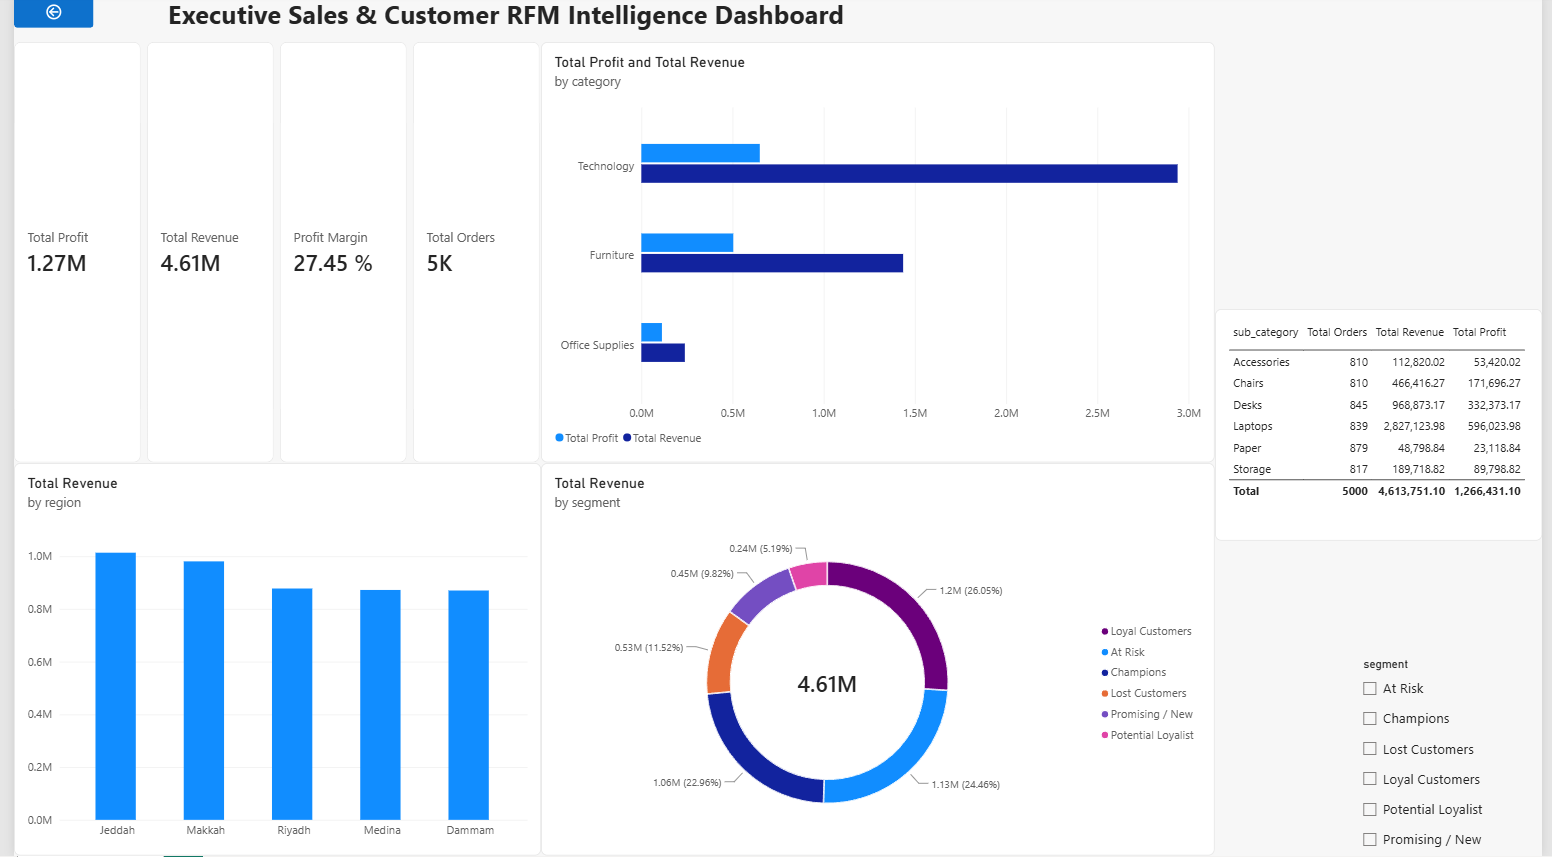

The page's visual inventory and layout, read from the dashboard file:
{"tool":"powerbi","page":{"name":"Executive Overview","canvas":[1920,1080],"ordinal":0},"visuals":[{"type":"cardVisual","fields":{"Data":["rfm_customer_segments.Total Profit","rfm_customer_segments.Total Revenue","rfm_customer_segments.Profit Margin","rfm_customer_segments.Total Orders"]},"box":[0,58.4,662.4,528.1],"z":0},{"type":"clusteredColumnChart","fields":{"Category":["sales_data.region"],"Y":["rfm_customer_segments.Total Revenue"]},"box":[0,586.5,662.4,493.1],"z":1},{"type":"clusteredBarChart","fields":{"Category":["sales_data.category"],"Y":["rfm_customer_segments.Total Profit","rfm_customer_segments.Total Revenue"]},"box":[662.4,58.4,846.2,528.1],"z":2},{"type":"slicer","fields":{"Values":["rfm_customer_segments.segment"]},"box":[1687.1,831.9,233.4,248],"z":3},{"type":"donutChart","fields":{"Category":["rfm_customer_segments.segment"],"Y":["rfm_customer_segments.Total Revenue"]},"box":[662.4,586.5,846.2,493.1],"z":4},{"type":"tableEx","fields":{"Values":["sales_data.sub_category","rfm_customer_segments.Total Orders","rfm_customer_segments.Total Revenue","rfm_customer_segments.Total Profit"]},"box":[1508.6,393.3,411.4,291.1],"z":5},{"type":"actionButton","box":[0,0,100,40],"z":6},{"type":"textbox","box":[157.8,0,916,58.2],"z":7}]}

Visuals, with their boxes in screenshot pixels (x1, y1, x2, y2), scaled from the page's 1920x1080 canvas onto the 1552x857 screenshot:
cardVisual - rfm_customer_segments.Total Profit x rfm_customer_segments.Total Revenue: l=0, t=46, r=535, b=465
clusteredColumnChart - sales_data.region x rfm_customer_segments.Total Revenue: l=0, t=465, r=535, b=856
clusteredBarChart - sales_data.category x rfm_customer_segments.Total Profit: l=535, t=46, r=1219, b=465
slicer - rfm_customer_segments.segment: l=1364, t=660, r=1551, b=856
donutChart - rfm_customer_segments.segment x rfm_customer_segments.Total Revenue: l=535, t=465, r=1219, b=856
tableEx - sales_data.sub_category x rfm_customer_segments.Total Orders: l=1219, t=312, r=1551, b=543
actionButton: l=0, t=0, r=81, b=32
textbox: l=128, t=0, r=868, b=46
